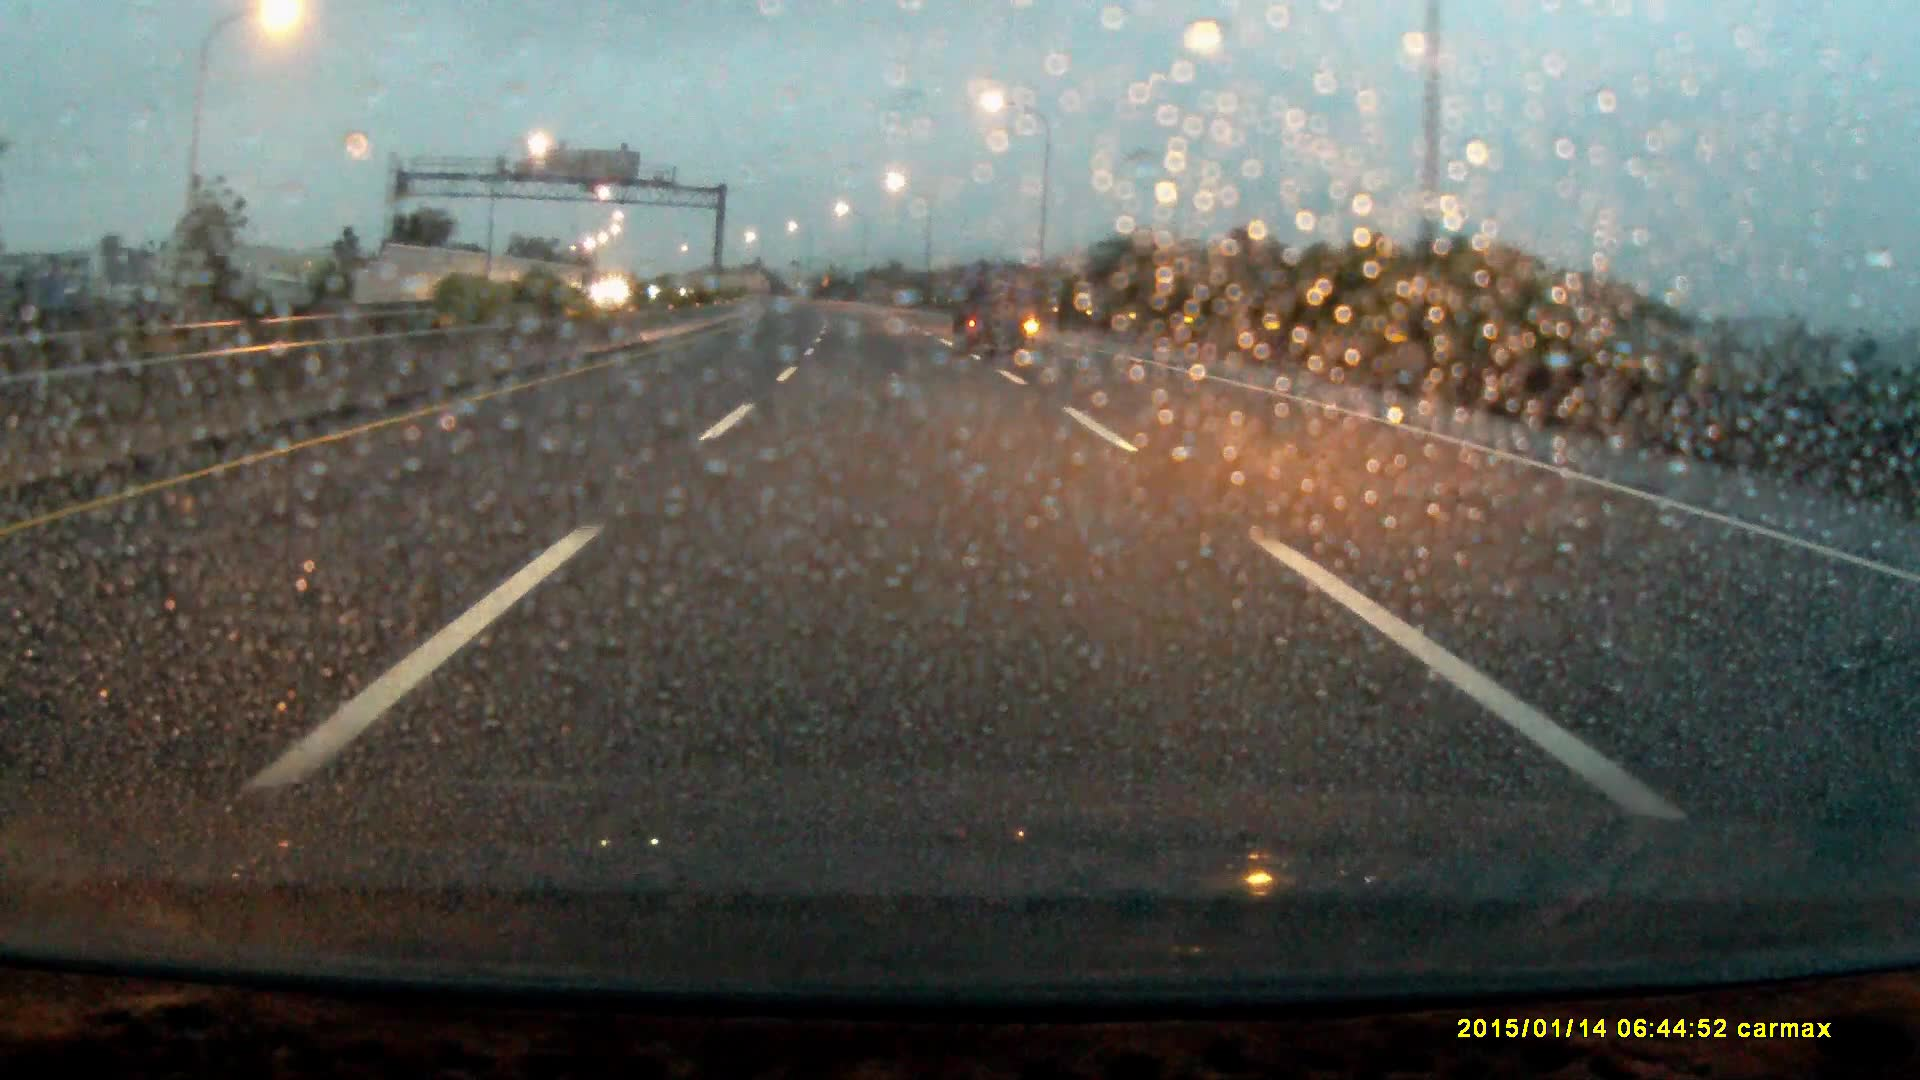vehicle: (953, 272, 1039, 360)
